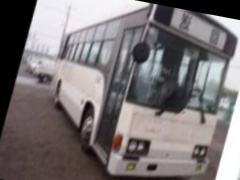bus: (28, 0, 240, 180)
